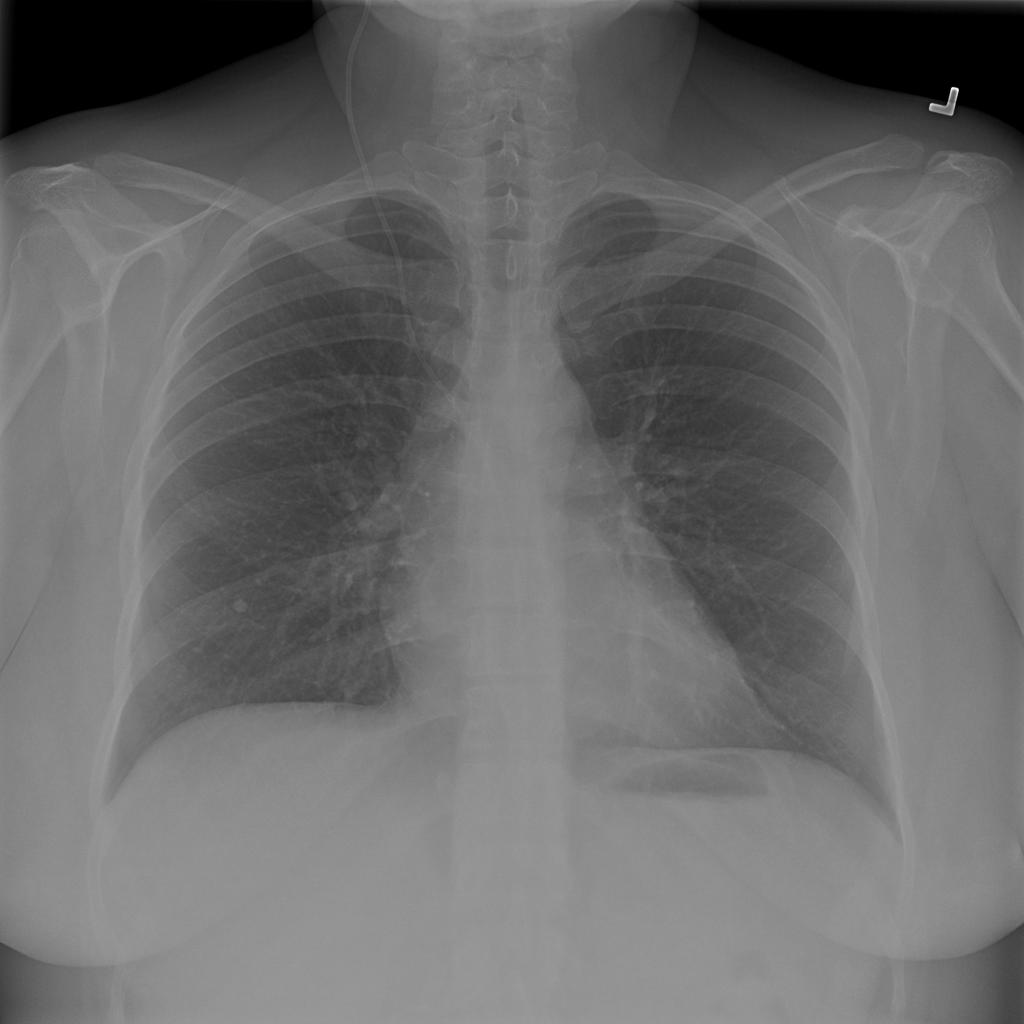nodule: (224, 590, 255, 618)
